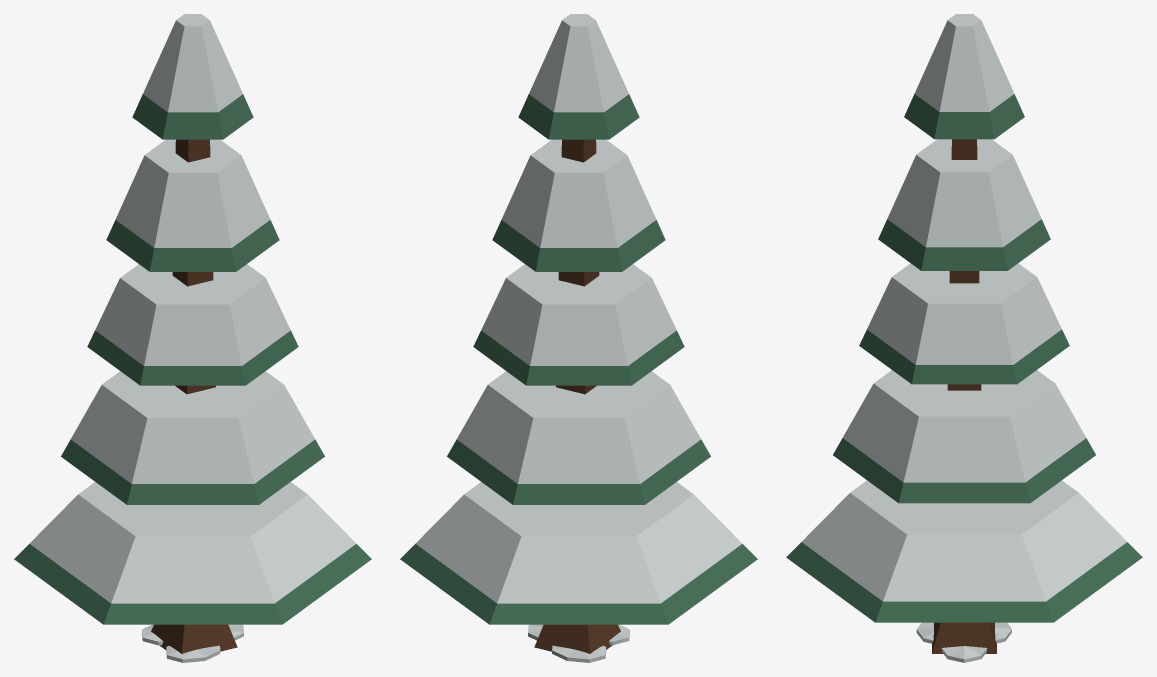
File: tree_pineRoundA_winter.glb
The picture shows the model from 3 angles, left to right: view 1: azimuth 30°, elevation 25°; view 2: azimuth 150°, elevation 25°; view 3: azimuth 270°, elevation 25°; orthographic projection.
Visible parts, largest first — view 1: geometry; view 2: geometry; view 3: geometry.
Part boxes in pixels (box(x1,y1,x2,y2)): geometry: box(14, 14, 371, 662); geometry: box(400, 14, 757, 662); geometry: box(786, 14, 1142, 662).
Bounding box in the file's own units: 0.617 × 1.37 × 0.7125.
